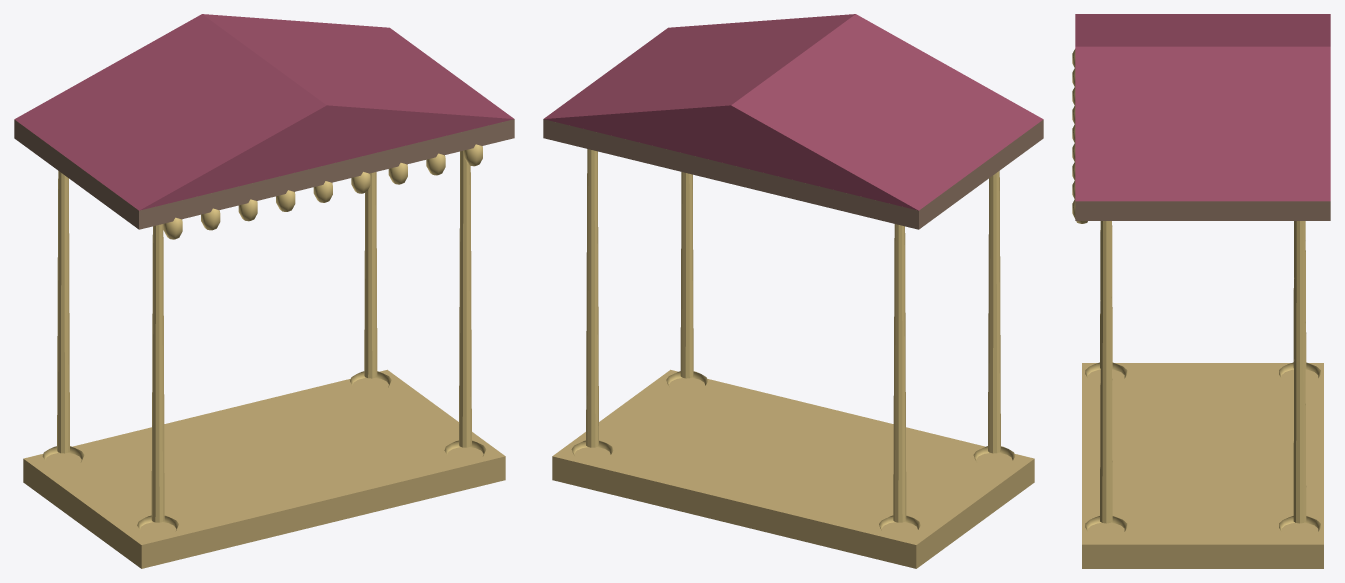
Rendered from casino-floor-and-back-rooms-entrance-canopy-c5dfe250__27061.glb.
The picture shows the model from 3 angles, left to right: view 1: azimuth 30°, elevation 25°; view 2: azimuth 150°, elevation 25°; view 3: azimuth 270°, elevation 25°; orthographic projection. The views are drawn at different scales.
Parts seen in each view (by area): view 1: entrance-canopy; view 2: entrance-canopy; view 3: entrance-canopy.
Boxes of the visible parts, x1,y1,x2,y2 form: entrance-canopy: [14, 14, 514, 568]; entrance-canopy: [543, 14, 1043, 568]; entrance-canopy: [1072, 14, 1330, 568].
Size of the model in its own units: 3.3 by 3.54 by 1.92.
